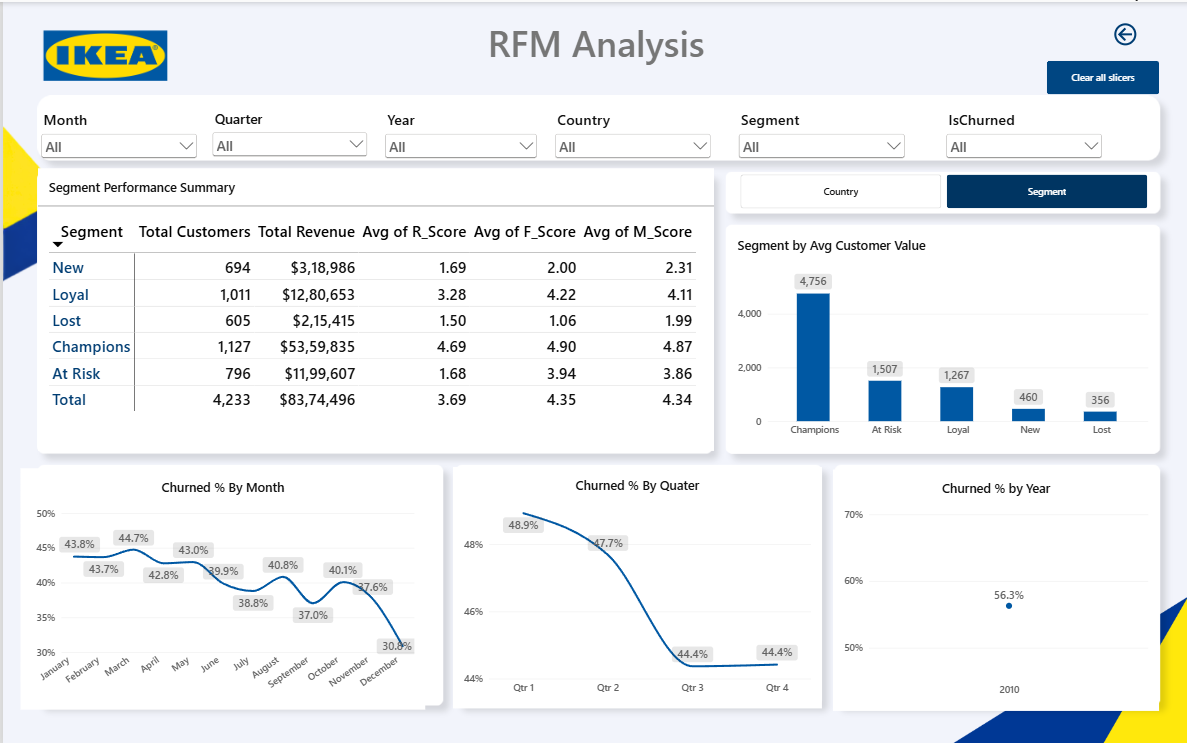

This screenshot's page, from the dashboard's own definition file:
{"tool":"powerbi","page":{"name":"RFM Analysis","canvas":[1750,1100],"ordinal":1},"visuals":[{"type":"slicer","fields":{"Values":["Sheet1.InvoiceMonth.Variation.Date Hierarchy.Month"]},"box":[51.6,158.5,239.6,92.2],"z":0},{"type":"slicer","fields":{"Values":["Sheet1.InvoiceMonth.Variation.Date Hierarchy.Quarter"]},"box":[304.1,158.5,237.8,86.6],"z":1000},{"type":"slicer","fields":{"Values":["Sheet1.Year"]},"box":[558.5,158.5,234.1,75.6],"z":2000},{"type":"lineChart","title":"Churned % By Month","fields":{"Category":["Sheet1.InvoiceMonth.Variation.Date Hierarchy.Year","Sheet1.InvoiceMonth.Variation.Date Hierarchy.Quarter","Sheet1.InvoiceMonth.Variation.Date Hierarchy.Month"],"Y":["Sheet1.Churned %"]},"box":[25.8,687.5,597.2,355.7],"z":2000,"group":"g1"},{"type":"slicer","fields":{"Values":["Sheet1.Country"]},"box":[809.2,158.5,239.6,75.6],"z":3000},{"type":"lineChart","title":"Churned % By Quater","fields":{"Category":["Sheet1.InvoiceMonth.Variation.Date Hierarchy.Quarter"],"Y":["Sheet1.Churned %"]},"box":[663.5,685.7,543.7,355.7],"z":3000,"group":"g1"},{"type":"slicer","fields":{"Values":["Sheet1.Segment"]},"box":[1080.1,158.5,254.4,75.6],"z":4000},{"type":"lineChart","fields":{"Category":["Sheet1.InvoiceMonth.Variation.Date Hierarchy.Year"],"Y":["Sheet1.Churned %"]},"box":[1223.9,689.4,481.1,355.7],"z":4000,"group":"g1"},{"type":"slicer","fields":{"Values":["Sheet1.IsChurned"]},"box":[1386.1,158.5,239.6,75.6],"z":5000},{"type":"group","id":"g1","title":"Revenue","box":[25.8,685.7,1679.1,359.4],"z":7000},{"type":"bookmarkNavigator","box":[1087.5,254.4,600,50],"z":8000},{"type":"image","box":[25.8,0,250.7,158.5],"z":9000},{"type":"textbox","box":[555.2,24,639.6,86.6],"z":10000},{"type":"actionButton","box":[1605.4,16.6,99.5,62.7],"z":11000},{"type":"actionButton","box":[1539,86.6,165.9,49.8],"z":12000},{"type":"columnChart","title":"Segment by Avg Customer Value","fields":{"Category":["Sheet1.Segment"],"Y":["Sheet1.Avg Customer Value"]},"box":[1067.2,331.8,637.7,329.9],"z":14000},{"type":"pivotTable","title":"Segment Performance Summary","fields":{"Rows":["Sheet1.Segment"],"Values":["Sheet1.Total Customers","Sheet1.Total Revenue","Avg(Sheet1.R_Score)","Avg(Sheet1.F_Score)","Avg(Sheet1.M_Score)"]},"box":[51.6,245.1,997.2,416.6],"z":14500}]}

Visuals, with their boxes in screenshot pixels (x1, y1, x2, y2), scaled from the page's 1750x1100 canvas onto the 1187x743 screenshot:
slicer - Sheet1.InvoiceMonth.Variation.Date Hierarchy.Month: [x1=35, y1=107, x2=198, y2=169]
slicer - Sheet1.InvoiceMonth.Variation.Date Hierarchy.Quarter: [x1=206, y1=107, x2=368, y2=166]
slicer - Sheet1.Year: [x1=379, y1=107, x2=538, y2=158]
"Churned % By Month" lineChart: [x1=17, y1=464, x2=423, y2=705]
slicer - Sheet1.Country: [x1=549, y1=107, x2=711, y2=158]
"Churned % By Quater" lineChart: [x1=450, y1=463, x2=819, y2=703]
slicer - Sheet1.Segment: [x1=733, y1=107, x2=905, y2=158]
lineChart - Sheet1.InvoiceMonth.Variation.Date Hierarchy.Year x Sheet1.Churned %: [x1=830, y1=466, x2=1156, y2=706]
slicer - Sheet1.IsChurned: [x1=940, y1=107, x2=1103, y2=158]
"Revenue" group: [x1=17, y1=463, x2=1156, y2=706]
bookmarkNavigator: [x1=738, y1=172, x2=1145, y2=206]
image: [x1=17, y1=0, x2=188, y2=107]
textbox: [x1=377, y1=16, x2=810, y2=75]
actionButton: [x1=1089, y1=11, x2=1156, y2=54]
actionButton: [x1=1044, y1=58, x2=1156, y2=92]
"Segment by Avg Customer Value" columnChart: [x1=724, y1=224, x2=1156, y2=447]
"Segment Performance Summary" pivotTable: [x1=35, y1=166, x2=711, y2=447]
